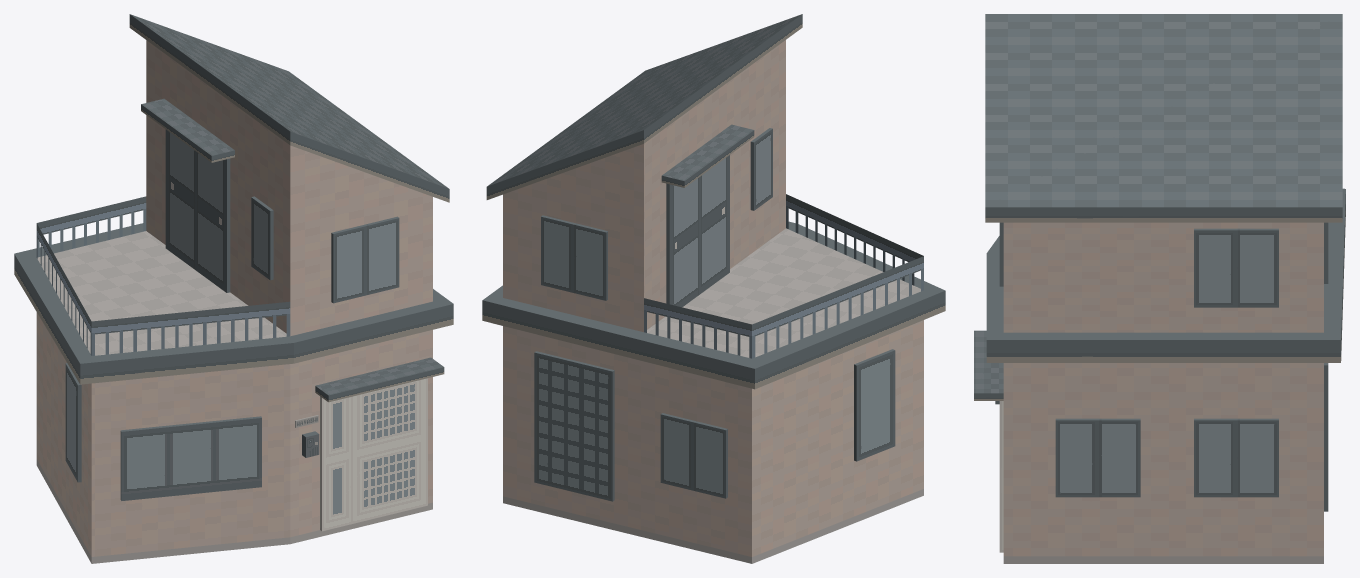
The model's file is 00f6_Hayashi_Residence.glb.
The picture shows the model from 3 angles, left to right: view 1: azimuth 30°, elevation 25°; view 2: azimuth 150°, elevation 25°; view 3: azimuth 270°, elevation 25°; orthographic projection. The views are drawn at different scales.
Visible parts, largest first — view 1: part_0; view 2: part_0; view 3: part_0.
Part boxes in pixels (x1,y1,x2,y2): part_0: (14,14,453,563); part_0: (482,14,945,563); part_0: (974,14,1345,563).
Bounding box in the file's own units: 4.38 × 5.16 × 3.72.
Materials: 1 (1 with a texture image).
